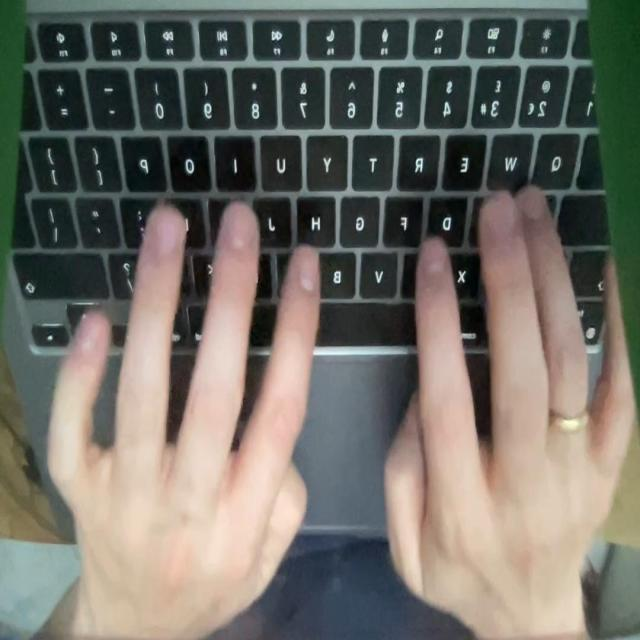keyboard-with-hands: (1, 0, 623, 538)
